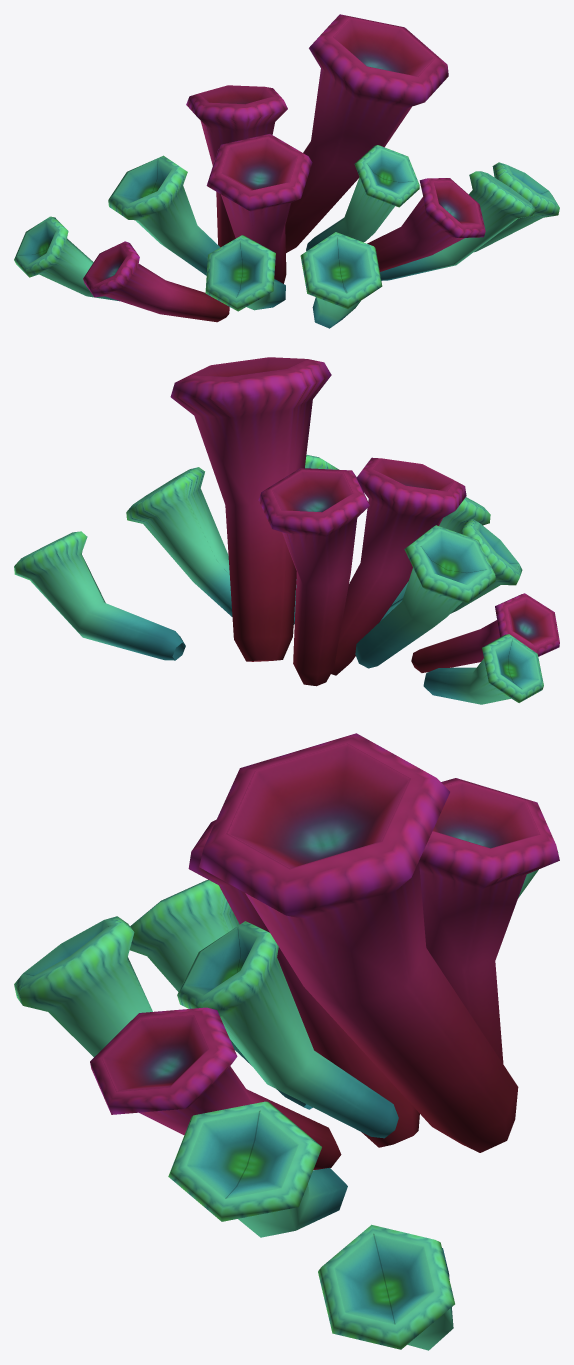
The model's file is Coral_14h.FBX.
3 renders of one model, top to bottom at view 1: azimuth 30°, elevation 25°; view 2: azimuth 150°, elevation 25°; view 3: azimuth 270°, elevation 25°, orthographic. The views are drawn at different scales.
Visible parts, largest first — view 1: Coral_14h; view 2: Coral_14h; view 3: Coral_14h.
Part boxes in pixels (x1,y1,x2,y2): Coral_14h: (14,14,559,328); Coral_14h: (14,357,559,704); Coral_14h: (14,733,559,1350).
Bounding box in the file's own units: 34.28 × 17.51 × 18.36.
